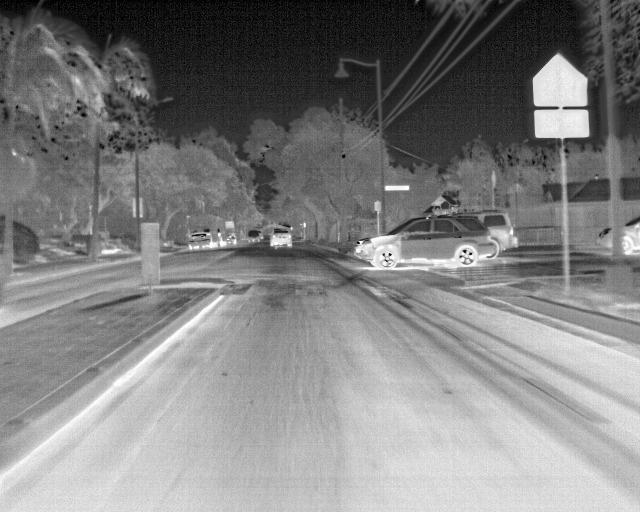car: (354, 213, 501, 270), (449, 209, 516, 259), (184, 232, 214, 253), (622, 218, 638, 255), (269, 228, 293, 248), (592, 227, 609, 253), (245, 228, 261, 244)
